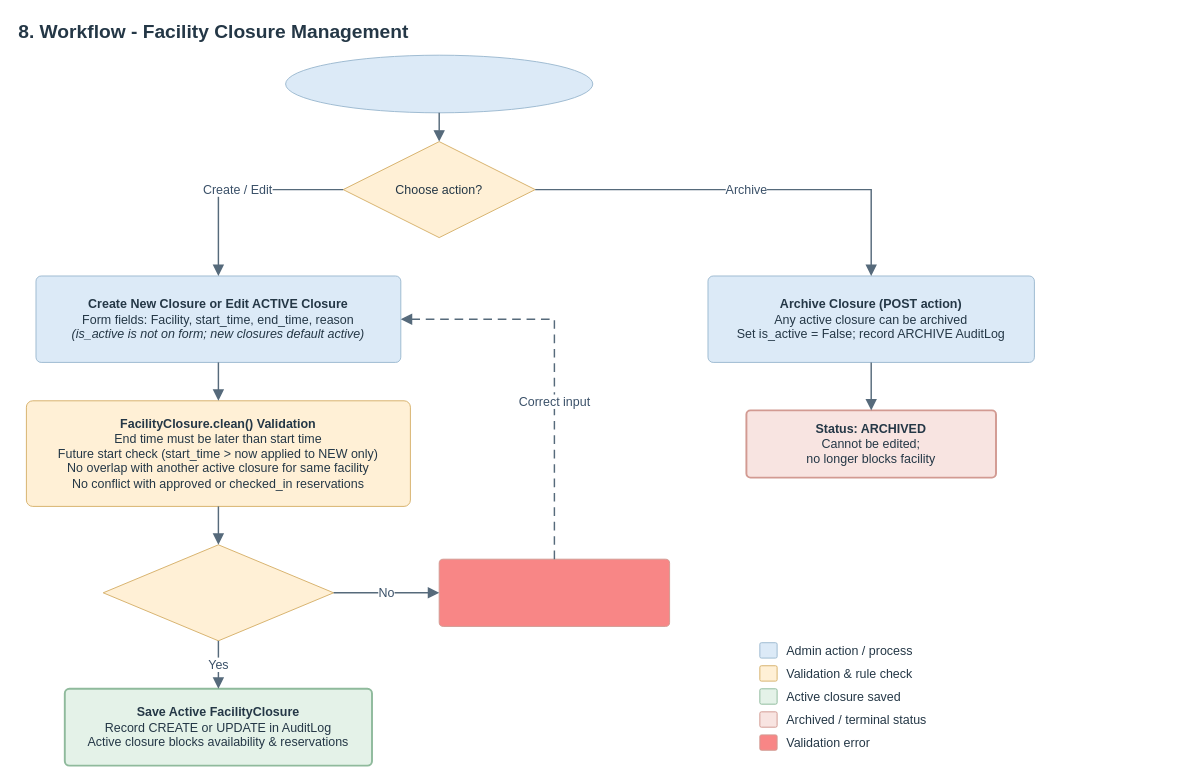
Image size: 1185x782. Some labels were removed from this diagram. The centre of each missing label's shape, as x and y in pixels:
Administrator opens closure management: point (439, 83)
Show Validation Errors Display errors; do not save: point (554, 592)
Validation passes?: point (218, 592)
